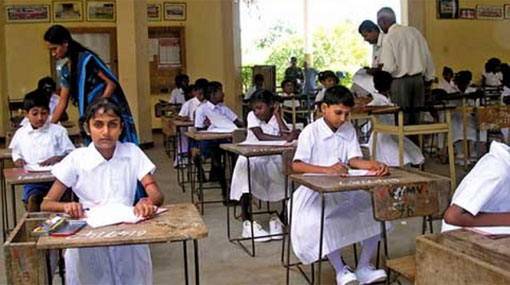invigilator: (42, 27, 133, 121), (373, 5, 439, 127), (355, 22, 399, 87)
student: (26, 117, 191, 210), (297, 89, 390, 193), (235, 83, 319, 163), (4, 106, 78, 162), (187, 81, 229, 148)
